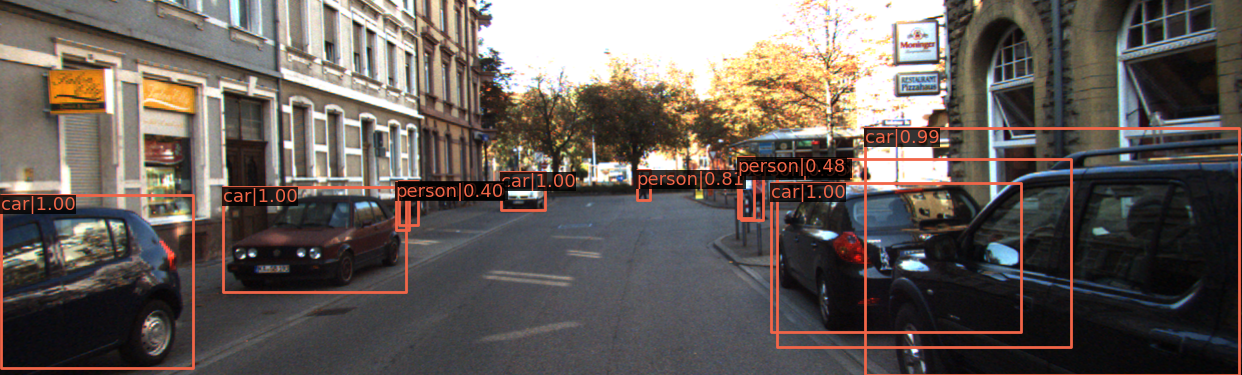car: (884, 100, 1242, 375), (774, 171, 1020, 347), (1, 191, 193, 375), (229, 191, 402, 297), (502, 173, 545, 214)
person: (738, 160, 761, 224), (744, 161, 760, 222), (400, 184, 417, 227), (639, 172, 650, 203)
